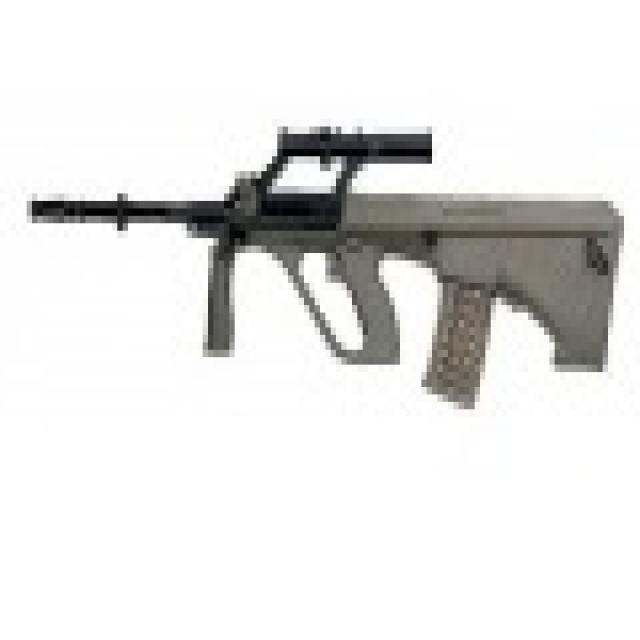Gun: (14, 111, 616, 426)
